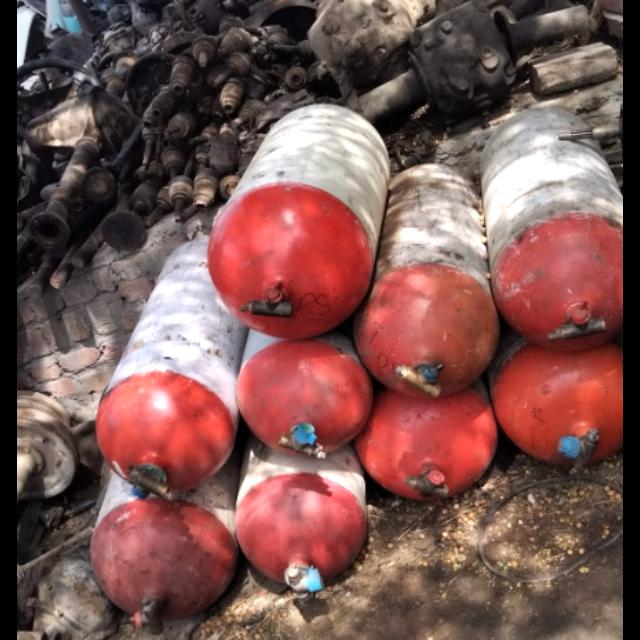Cylinders: (206, 98, 392, 347), (478, 98, 623, 354), (362, 159, 497, 408)
